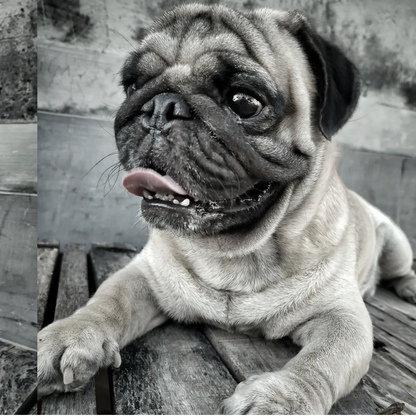Pug: (37, 1, 416, 415)
